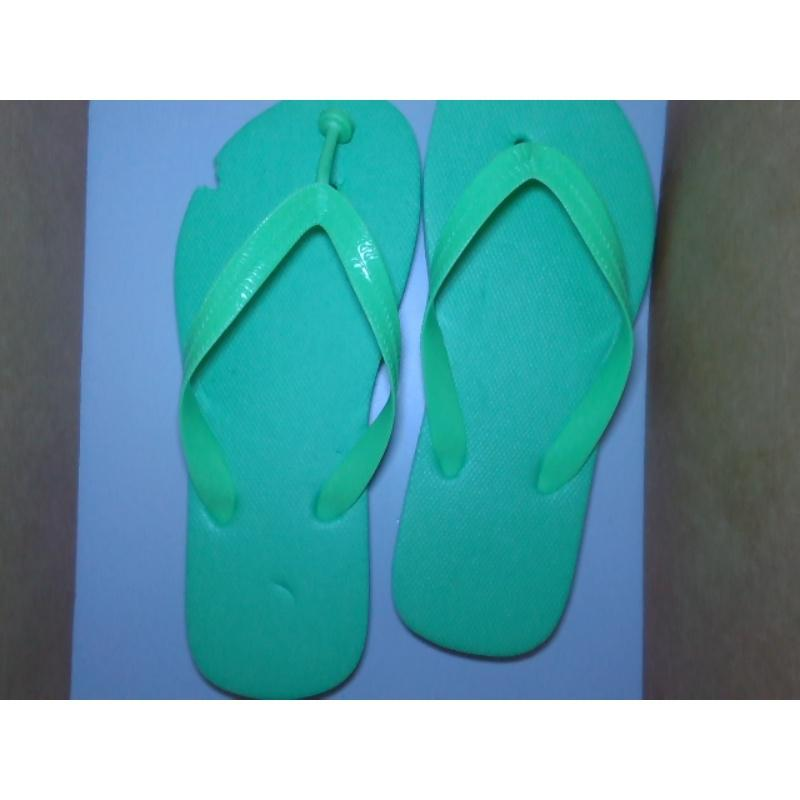chipped: (183, 141, 233, 215)
detached: (307, 104, 365, 159)
